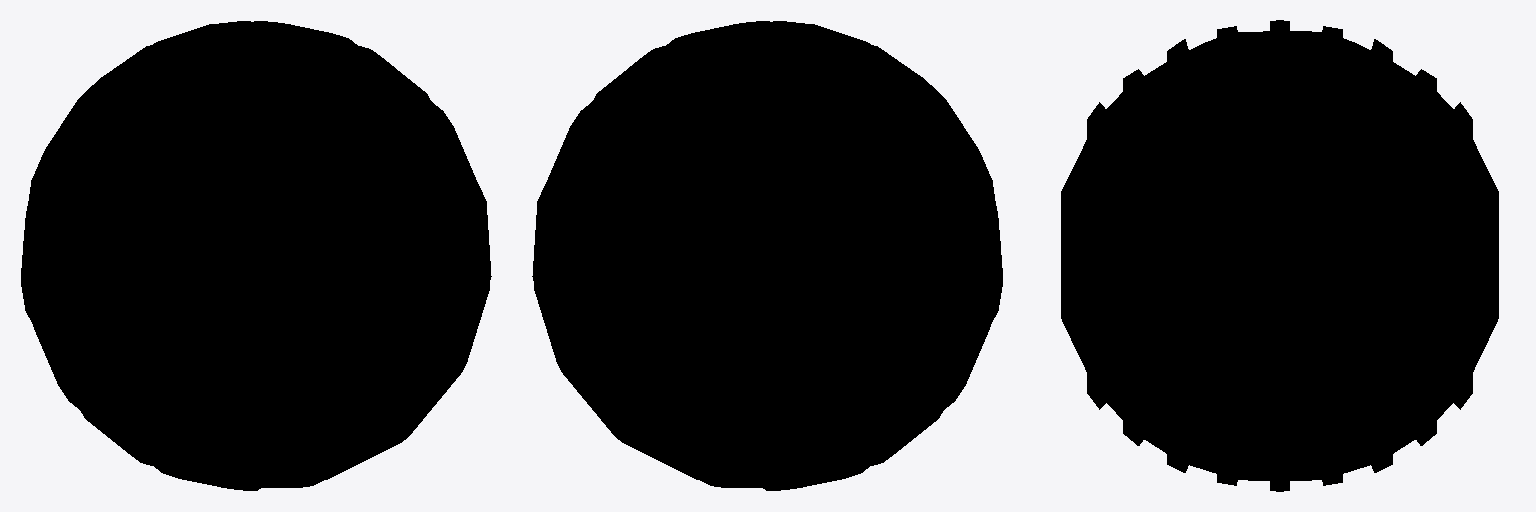
robot.urdf — sphere_holes:
<?xml version="1.0" ?>
<robot name="sphere_holes">
  <link name="baseLink">
    <contact>
      <lateral_friction value="1.0"/>
      <rolling_friction value="0.0"/>
      <contact_cfm value="0.0"/>
      <contact_erp value="1.0"/>
    </contact>
    <inertial>
      <origin rpy="0 0 0" xyz="0.0001 0.0 0.0"/>
       <mass value="0.047"/>
       <inertia ixx="0.00001316" ixy="0" ixz="0" iyy="0.000013275" iyz="0" izz="0.00001316"/>
    </inertial>
    <visual>
      <origin rpy="0 0 0" xyz="0.0001 0.0 0.0"/>
      <geometry>
        <mesh filename="../obj/sphere_holes.obj" scale=".001 .001 .001"/>
      </geometry>
       <material name="black">
        <color rgba="0 0 0 1"/>
      </material>
    </visual>
    <collision concave="yes">
      <origin rpy="0 0 0" xyz="0.0001 0.0 0.0"/>
      <geometry>
	 	<mesh filename="../obj/sphere_holes.obj" scale=".001 .001 .001"/>
      </geometry>
    </collision>
  </link>
</robot>

--- Facts derived from the render (not from the file) ---
The picture shows the robot from 3 angles, left to right: view 1: azimuth 30°, elevation 25°; view 2: azimuth 150°, elevation 25°; view 3: azimuth 270°, elevation 25°; orthographic projection.
Robot: sphere_holes — 1 links, 0 joints (none); root link baseLink; default pose: all joints at 0.
Links seen in each view (by area): view 1: baseLink; view 2: baseLink; view 3: baseLink.
Boxes of the visible links, x1,y1,x2,y2 form: baseLink: (21, 21, 491, 490); baseLink: (532, 21, 1002, 490); baseLink: (1061, 20, 1498, 491).
Bounding box of the posed robot: 0.0495 × 0.048 × 0.0495 m (x, y, z).
1 mesh visuals loaded from 1 distinct referenced files (1 OBJ).
